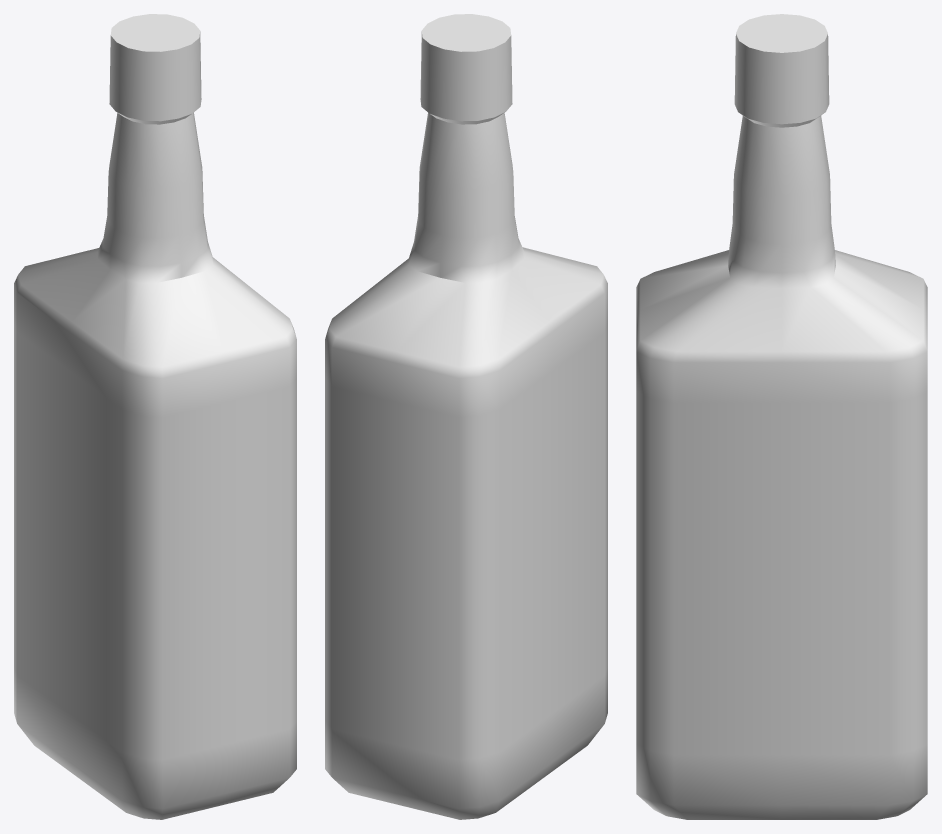
File: bottle-vodka.fbx
3 renders of one model, left to right at view 1: azimuth 30°, elevation 25°; view 2: azimuth 150°, elevation 25°; view 3: azimuth 270°, elevation 25°, orthographic. The views are drawn at different scales.
Visible parts, largest first — view 1: bottle_vodka; view 2: bottle_vodka; view 3: bottle_vodka.
Part boxes in pixels (x1,y1,x2,y2): bottle_vodka: (14, 14, 296, 819); bottle_vodka: (325, 14, 607, 819); bottle_vodka: (636, 14, 927, 819).
Bounding box in the file's own units: 0.0719 × 0.2912 × 0.1028.
